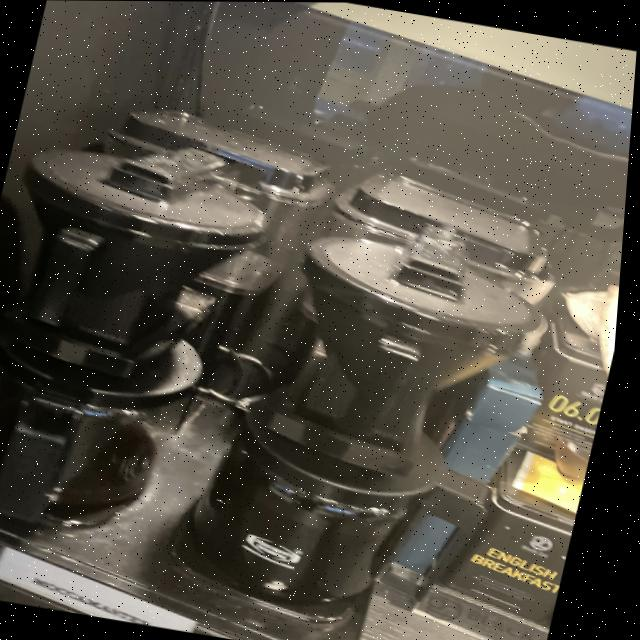coffee: (192, 372, 462, 622), (0, 297, 233, 533)
